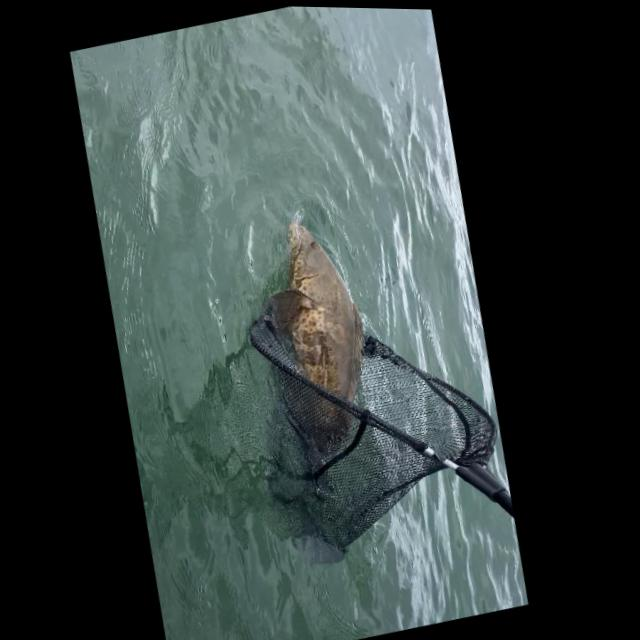Groupers: (239, 207, 397, 463)
